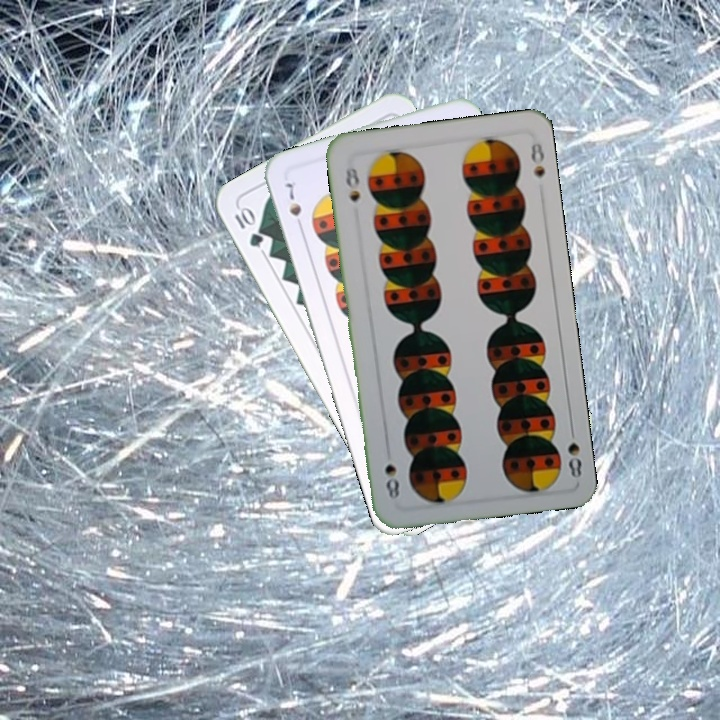G10: (230, 201, 266, 250)
S7: (282, 178, 306, 233)
S8: (563, 421, 585, 481), (341, 162, 363, 204)
